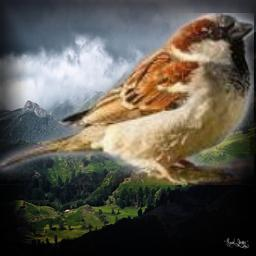Sparrow: (0, 13, 254, 185)
